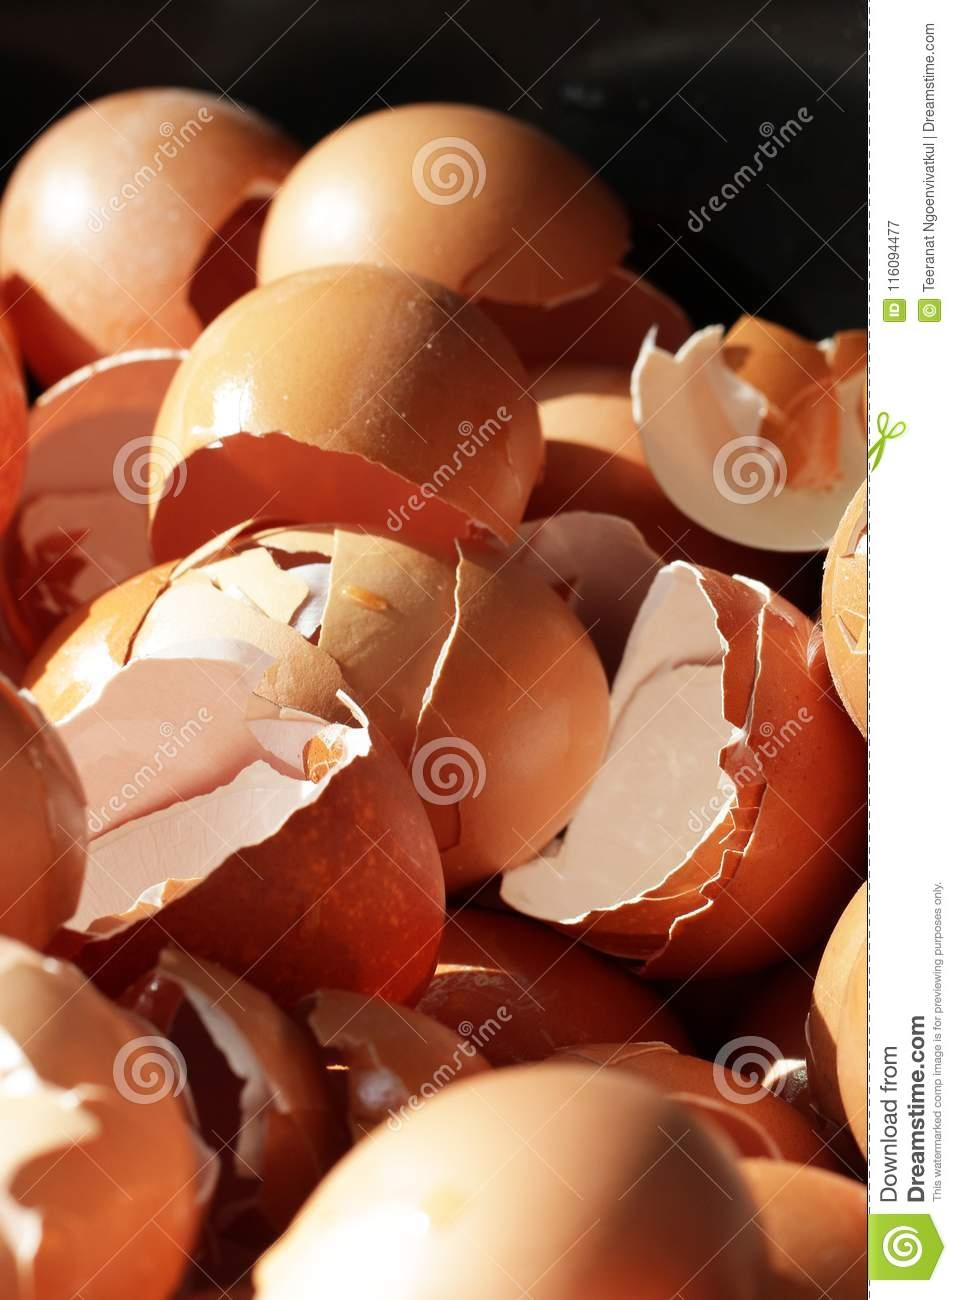kitchen_waste: (232, 1006, 791, 1300), (494, 542, 851, 994), (125, 244, 618, 569), (68, 669, 453, 1007), (248, 77, 660, 355), (384, 529, 618, 913), (594, 296, 918, 569), (1, 911, 218, 1300), (6, 76, 295, 349), (125, 942, 357, 1233), (1, 669, 95, 976)
